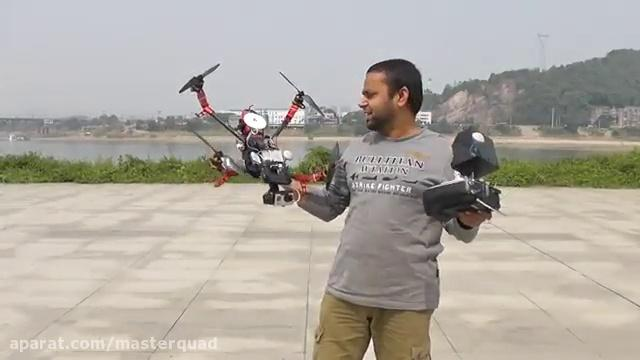drone: (176, 62, 342, 206)
